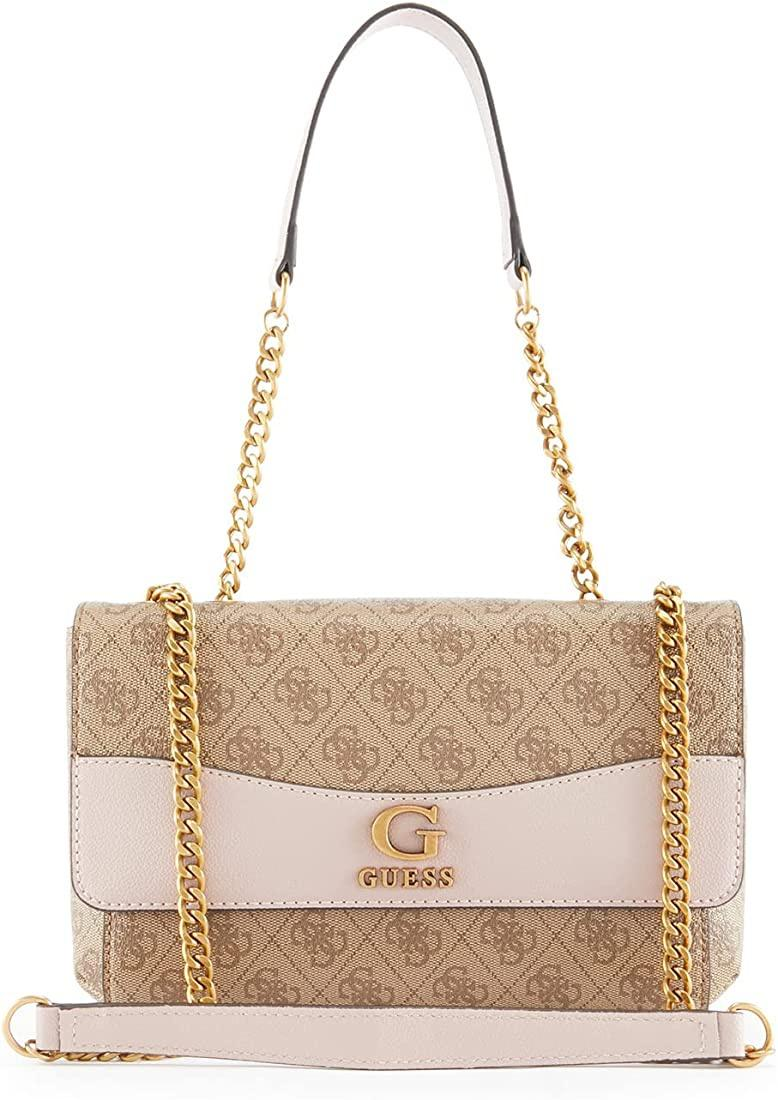GUESS: (358, 866, 454, 889)
